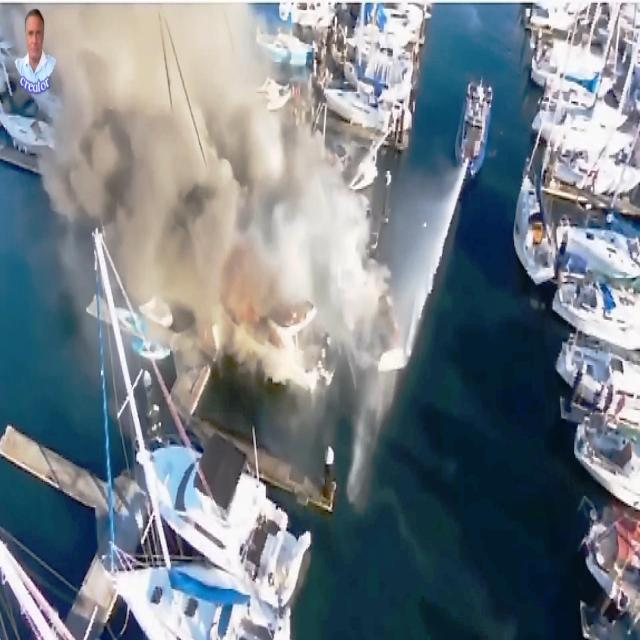Smoke: (94, 18, 234, 198)
